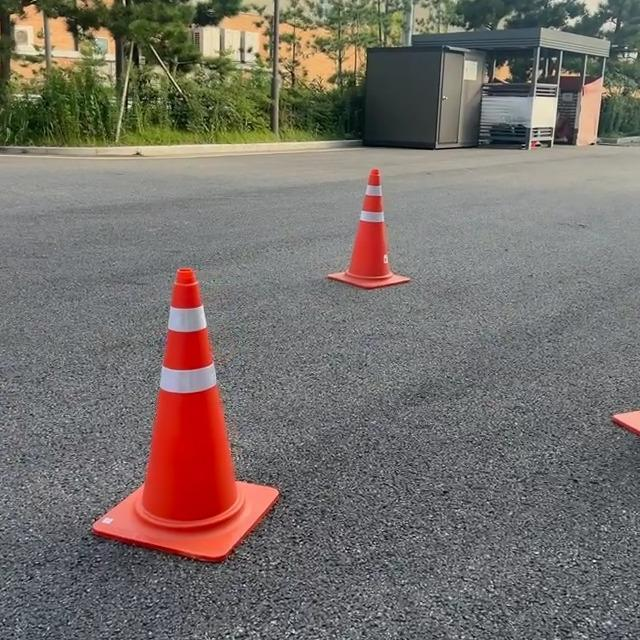fallen_object: (59, 210, 302, 582), (326, 176, 398, 321), (589, 365, 640, 451)
